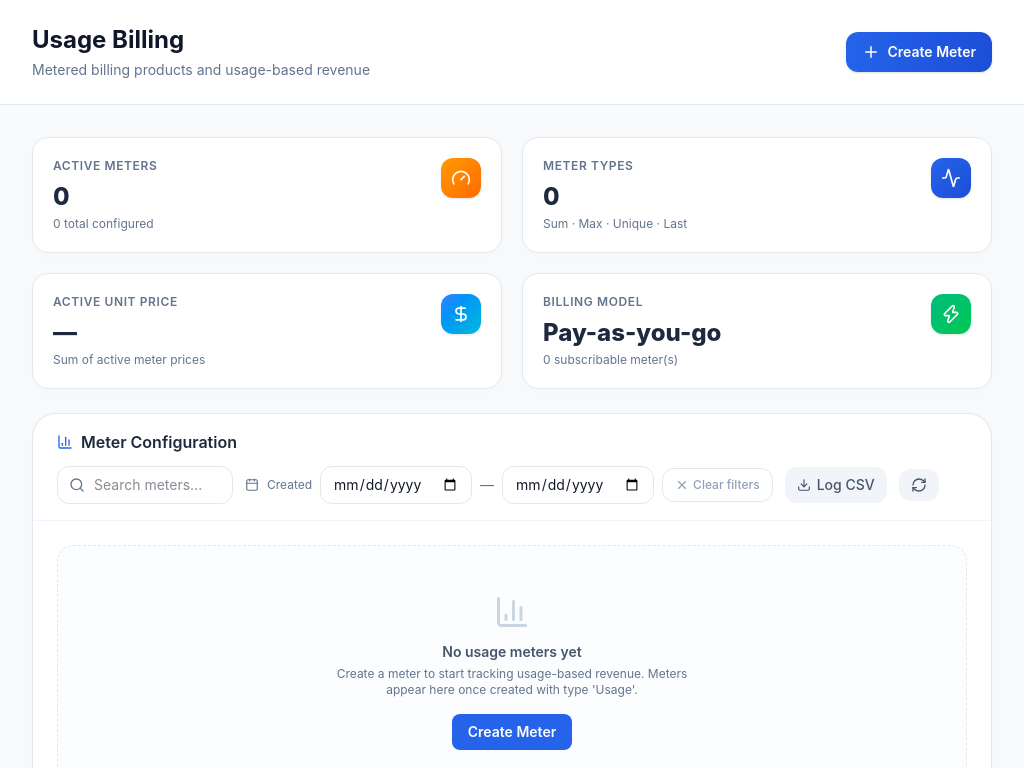
Test: B3 Usage Billing dates › Clear is always visible (disabled until a date is set); Clear empties both dates
The width and height of the screenshot is (1024, 768).
expect the button "Clear filters" is disabled: met, box x1=662 y1=468 x2=773 y2=502
Type "2026-01-01" into the date field named "Created from date" at (396, 485), box x1=320 y1=466 x2=472 y2=504
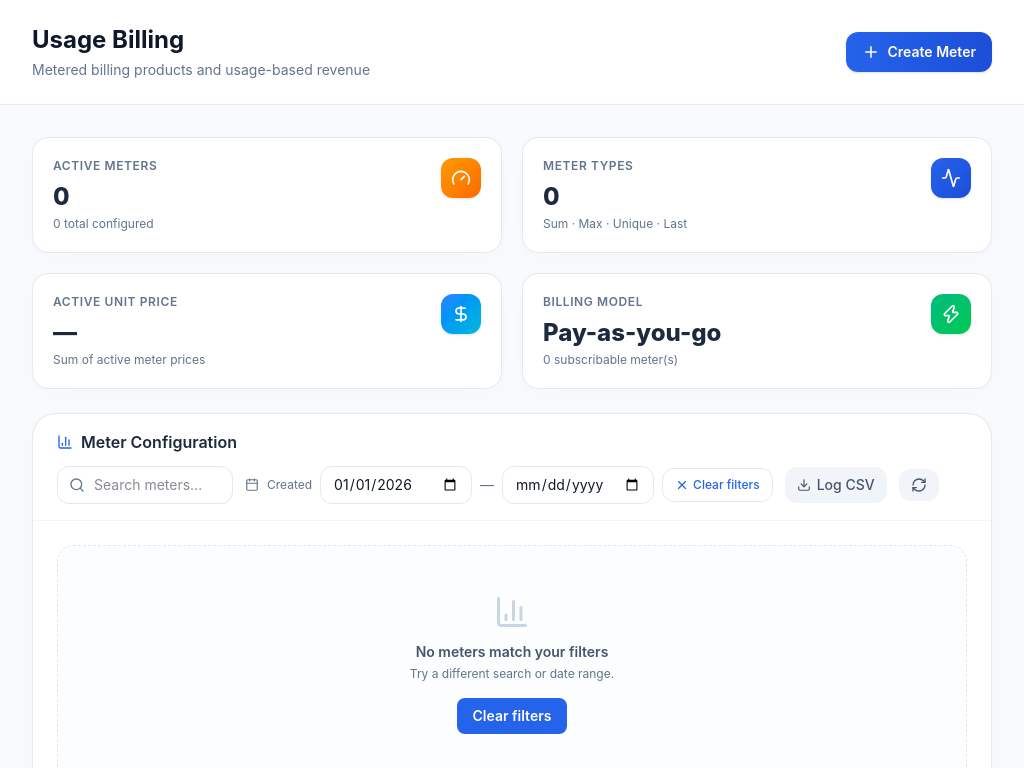
Type "2026-12-31" into the date field named "Created to date" at (578, 485), box x1=502 y1=466 x2=654 y2=504
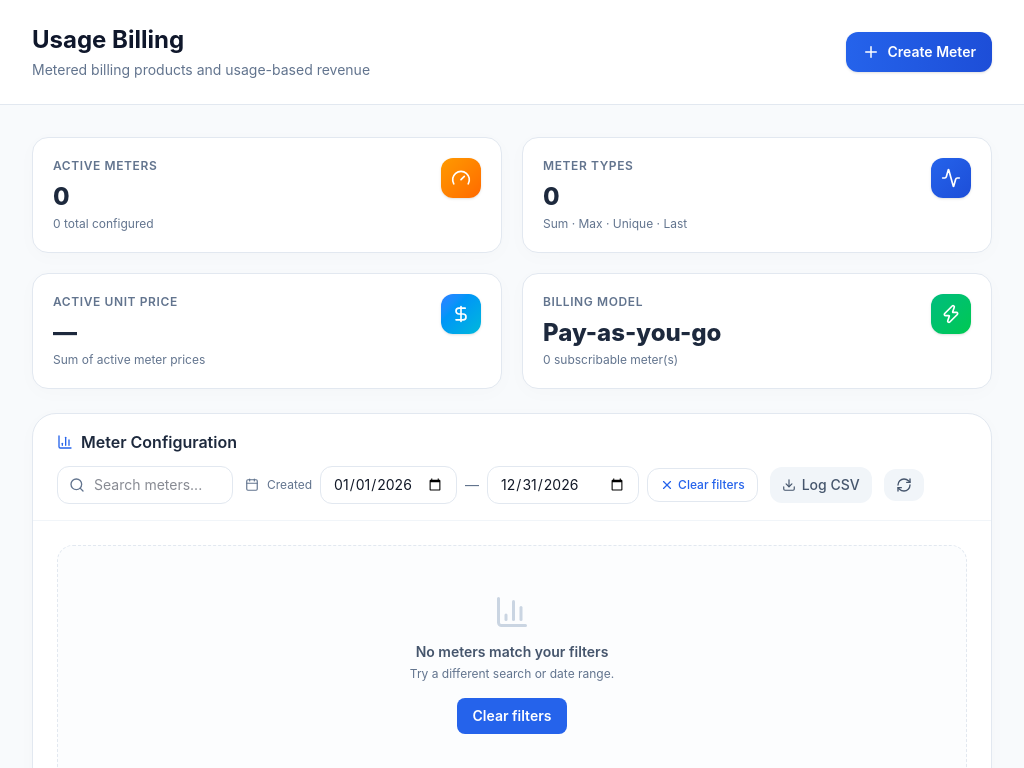
expect the 1st button "Clear filters" is enabled: met
Click the 1st button "Clear filters" at (702, 485), box x1=647 y1=468 x2=758 y2=502
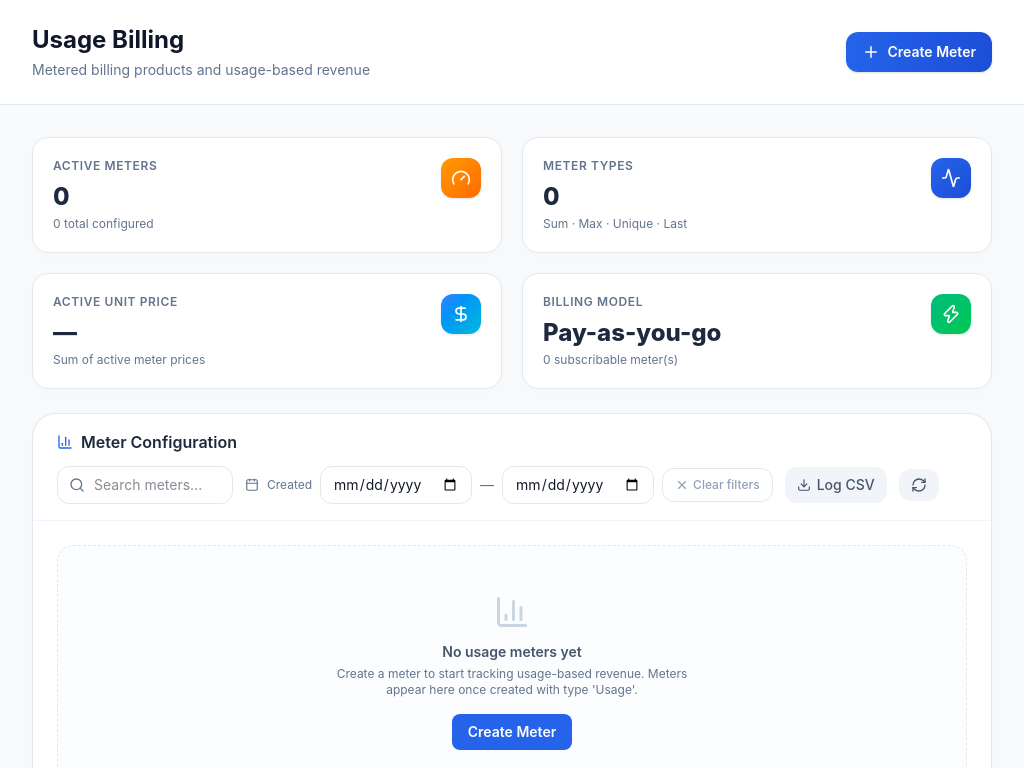
expect the date field named "Created from date" is empty: met, box x1=320 y1=466 x2=472 y2=504
expect the date field named "Created to date" is empty: met, box x1=502 y1=466 x2=654 y2=504
expect the button "Clear filters" is disabled: met, box x1=662 y1=468 x2=773 y2=502
